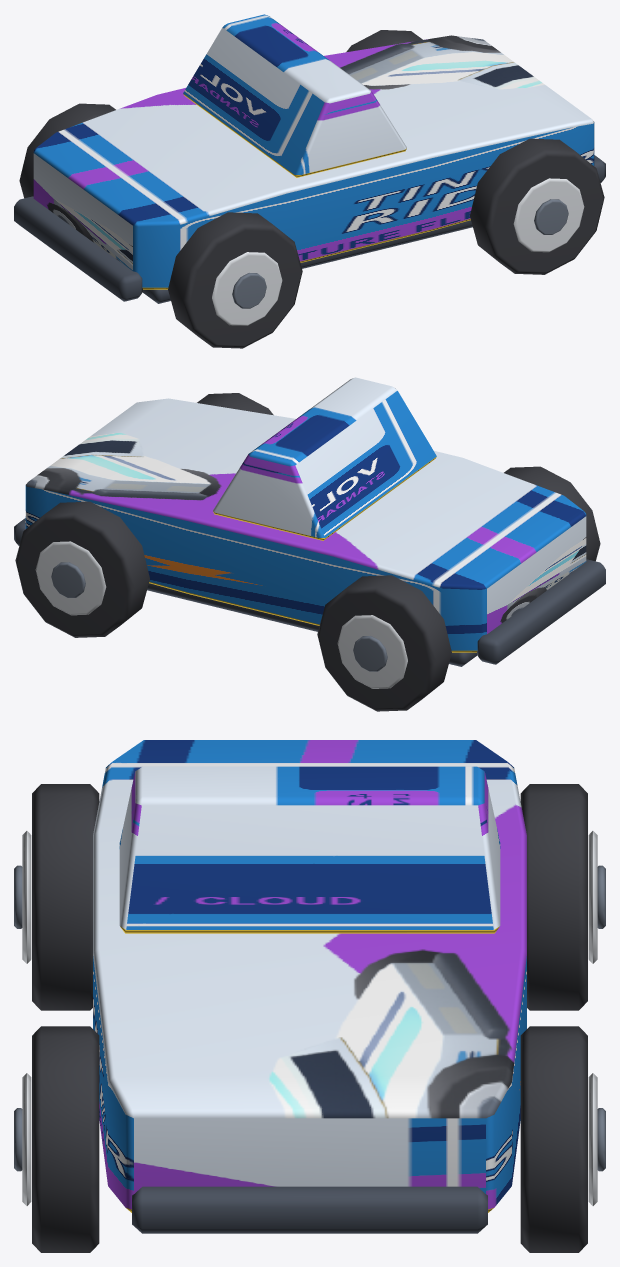
The picture shows the model from 3 angles, top to bottom: view 1: azimuth 30°, elevation 25°; view 2: azimuth 150°, elevation 25°; view 3: azimuth 270°, elevation 25°; orthographic projection. The views are drawn at different scales.
Visible parts, largest first — view 1: FF-03_connected_shell, FF-03_cabin, Tire, Tire.002, front bumper, Rim.002, Rim, Tire.001, underbody, Hub.002, Hub, Tire.003; view 2: FF-03_connected_shell, FF-03_cabin, Tire.001, Tire.003, front bumper, Rim.003, Rim.001, Tire, underbody, Hub.003, Hub.001, Tire.002; view 3: FF-03_connected_shell, FF-03_cabin, rear bumper, Tire.002, Tire.003, Tire, Tire.001, Rim, Rim.001, Rim.002, Rim.003.
Part boxes in pixels (<box>): FF-03_connected_shell: <box>33,35,594,289</box>; FF-03_cabin: <box>183,14,406,177</box>; Tire: <box>168,212,302,348</box>; Tire.002: <box>470,138,604,274</box>; front bumper: <box>14,196,142,301</box>; Rim.002: <box>513,178,584,252</box>; Rim: <box>212,252,282,325</box>; Tire.001: <box>19,103,115,198</box>; underbody: <box>142,220,472,303</box>; Hub.002: <box>534,199,568,234</box>; Hub: <box>232,273,266,308</box>; Tire.003: <box>346,30,422,52</box>; FF-03_connected_shell: <box>25,398,586,652</box>; FF-03_cabin: <box>213,377,436,540</box>; Tire.001: <box>317,575,451,711</box>; Tire.003: <box>15,501,149,637</box>; front bumper: <box>477,559,605,664</box>; Rim.003: <box>35,541,106,615</box>; Rim.001: <box>337,615,407,688</box>; Tire: <box>504,466,600,561</box>; underbody: <box>147,583,477,666</box>; Hub.003: <box>51,562,85,597</box>; Hub.001: <box>353,636,387,671</box>; Tire.002: <box>197,393,273,415</box>; FF-03_connected_shell: <box>93,740,526,1212</box>; FF-03_cabin: <box>119,766,500,933</box>; rear bumper: <box>132,1186,487,1233</box>; Tire.002: <box>32,1026,99,1252</box>; Tire.003: <box>520,1026,587,1252</box>; Tire: <box>32,784,99,1010</box>; Tire.001: <box>520,784,587,1010</box>; Rim: <box>22,831,31,963</box>; Rim.001: <box>588,831,597,963</box>; Rim.002: <box>22,1073,31,1205</box>; Rim.003: <box>588,1073,597,1205</box>.
Bounding box in the file's own units: 359 × 140 × 229.
